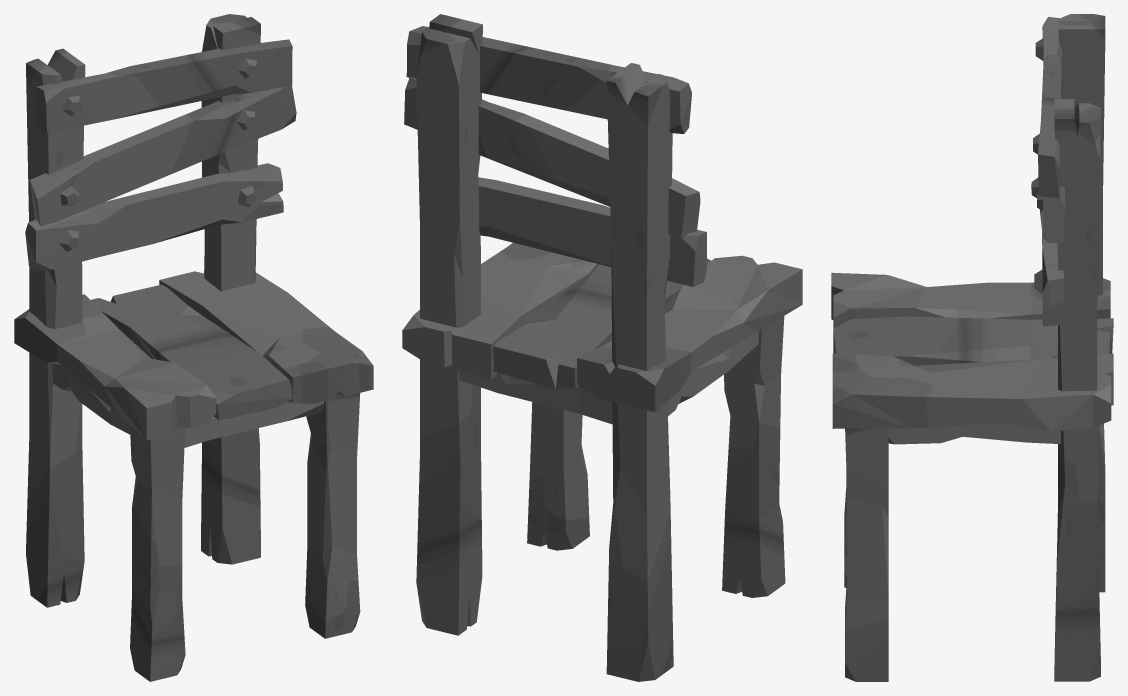
Rendered from chair.gltf.
3 views of the same model, side by side, from view 1: azimuth 30°, elevation 25°; view 2: azimuth 150°, elevation 25°; view 3: azimuth 270°, elevation 25° (orthographic). The views are drawn at different scales.
Visible parts, largest first — view 1: chair; view 2: chair; view 3: chair.
Part boxes in pixels (x1=…): chair: x1=14, y1=14, x2=373, y2=681; chair: x1=402, y1=14, x2=802, y2=681; chair: x1=831, y1=14, x2=1113, y2=681.
Size of the model in its own units: 0.5166 by 0.998 by 0.4535.
Materials: 1 (1 with a texture image).
